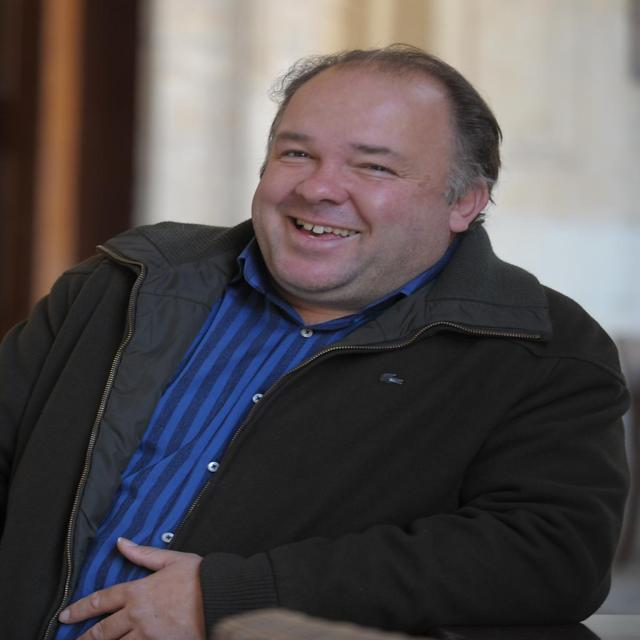Face: (255, 68, 476, 283)
